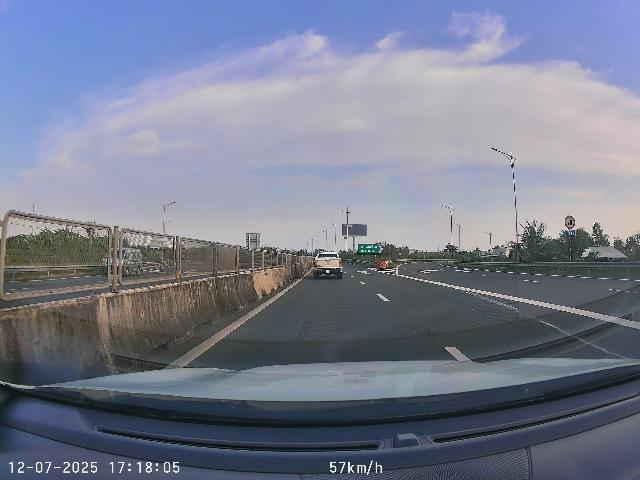127-toc-do-toi-da-70: (564, 215, 575, 229)
